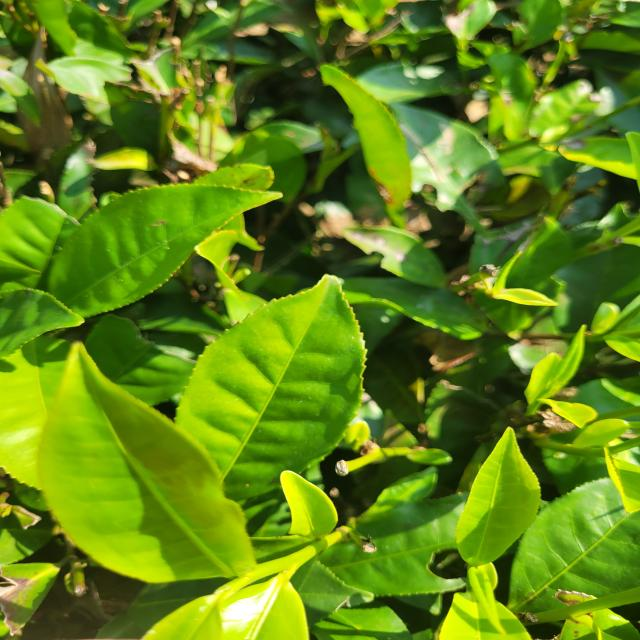Catagory A(1-2 days): (451, 424, 562, 570)
